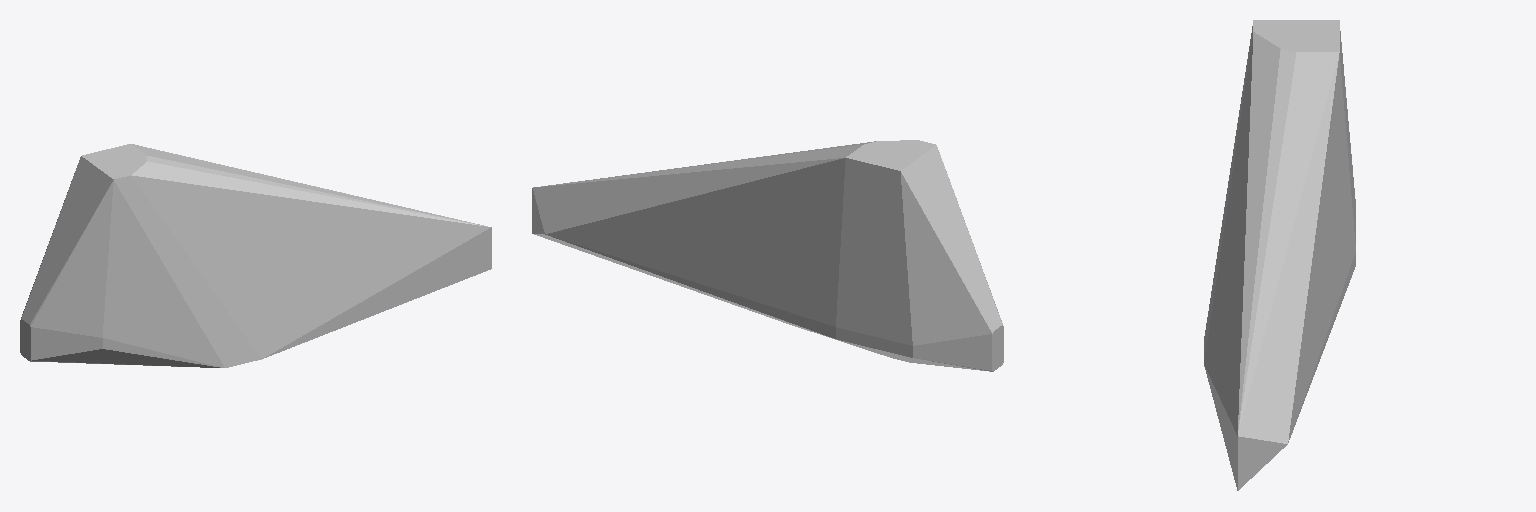
URDF robot description (ji_xi_combo_fixture):
<?xml version="1.0"?>
<robot name="ji_xi_combo_fixture">
  <!--
    Auto-generated from STEP using a convex-hull approximation.
    Notes:
    1) STEP -> exact URDF mesh conversion was not available in this environment.
    2) The visual/collision mesh below is a convex hull reconstructed from STEP point data.
    3) CAD units were interpreted as millimeters and converted to meters.
    4) The link frame is kept at the original CAD frame.
    5) Mass/inertia are placeholders and should be adjusted before real dynamics use.
  -->

  <link name="ji_xi_combo_fixture_link">
    <inertial>
      <origin xyz="0.097102 -0.011647 0.044556" rpy="0 0 0"/>
      <mass value="1.000000"/>
      <inertia ixx="0.005016818" ixy="0.000000000" ixz="0.000000000"
               iyy="0.025541153" iyz="0.000000000" izz="0.022724265"/>
    </inertial>

    <visual>
      <origin xyz="0 0 0" rpy="0 0 0"/>
      <geometry>
        <mesh filename="package://ji_xi_combo_fixture_description/meshes/ji_xi_combo_fixture_convex_hull.stl"/>
      </geometry>
      <material name="silver">
        <color rgba="0.80 0.80 0.80 1.0"/>
      </material>
    </visual>

    <collision>
      <origin xyz="0 0 0" rpy="0 0 0"/>
      <geometry>
        <mesh filename="package://ji_xi_combo_fixture_description/meshes/ji_xi_combo_fixture_convex_hull.stl"/>
      </geometry>
    </collision>
  </link>
</robot>

--- What the picture shows (computed from the rendered views, not written in the file) ---
Views: 3 orthographic renders of the robot side by side, from view 1: azimuth 30°, elevation 25°; view 2: azimuth 150°, elevation 25°; view 3: azimuth 270°, elevation 25°.
Robot: ji_xi_combo_fixture — 1 links, 0 joints (none); root link ji_xi_combo_fixture_link; default pose: every joint at zero.
Links seen in each view (by area): view 1: ji_xi_combo_fixture_link; view 2: ji_xi_combo_fixture_link; view 3: ji_xi_combo_fixture_link.
Link boxes in pixels (x1,y1,x2,y2): ji_xi_combo_fixture_link: [20, 144, 491, 367]; ji_xi_combo_fixture_link: [532, 140, 1003, 371]; ji_xi_combo_fixture_link: [1204, 20, 1355, 490].
Size in the robot's own frame: 0.5094 by 0.1149 by 0.2168 metres.
Meshes: 1 distinct files referenced, 1 mesh visuals loaded (1 binary STL).
